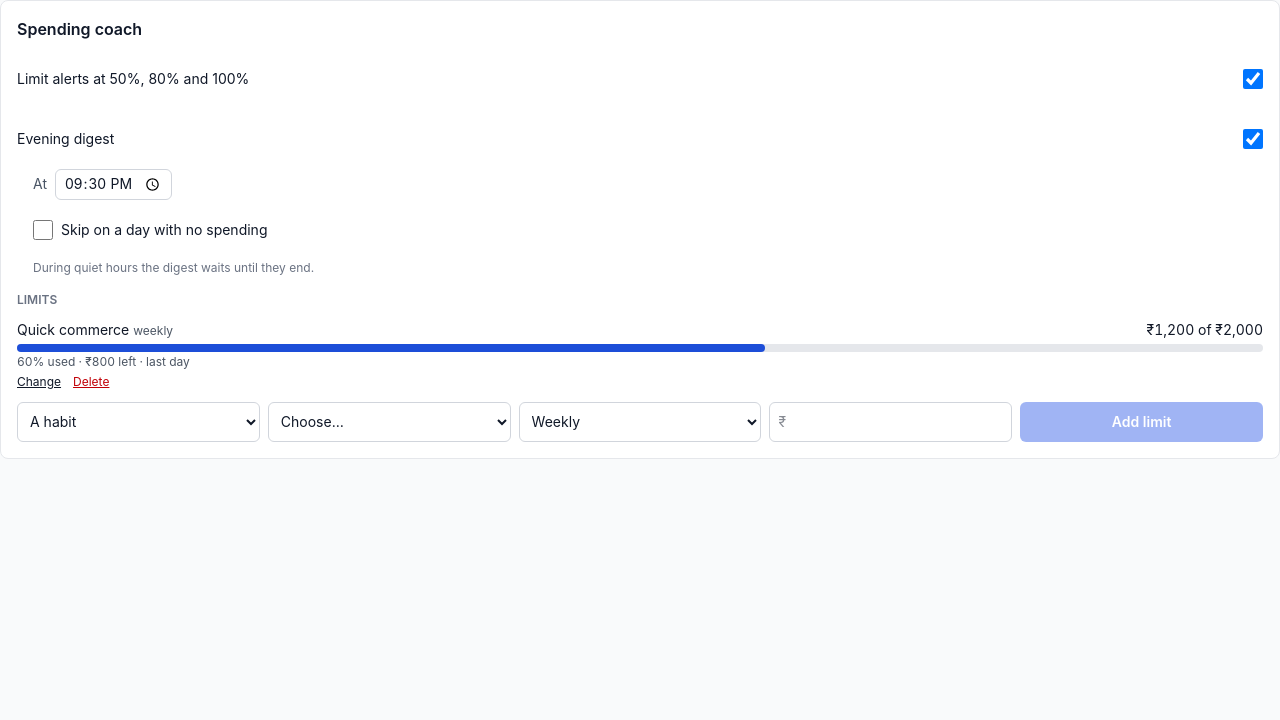
it: Settings → Spending coach (AOS-904) › a failed save is shown
Click the button with aria-label "Delete Quick commerce weekly limit". click: point(91, 382)
box: [73,374,109,390]
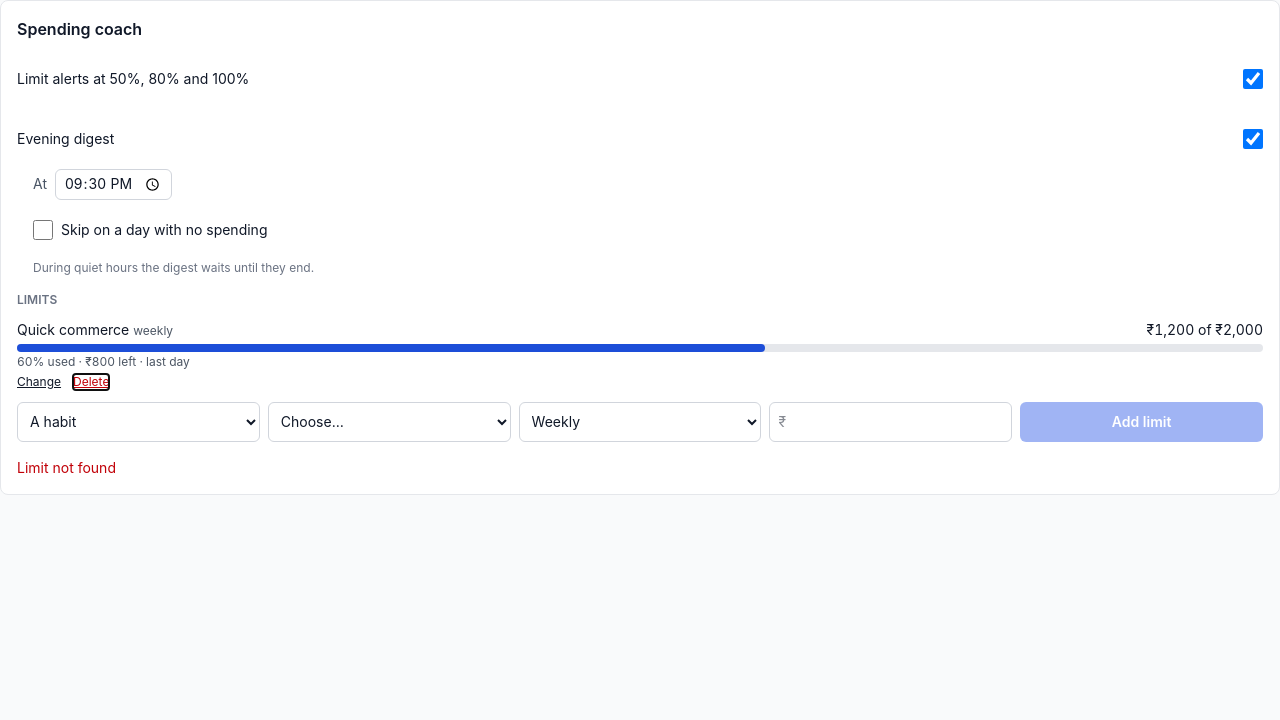
Expected: the message reads "Limit not found", [17,459,116,476]
